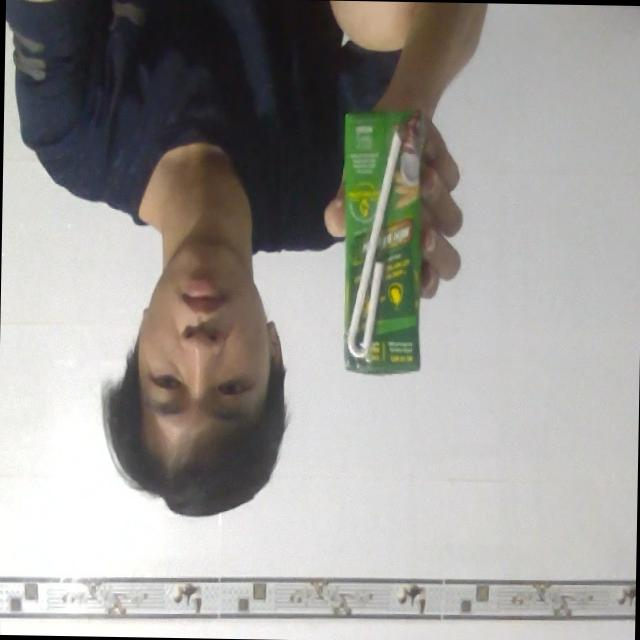sua milo: (324, 99, 442, 387)
